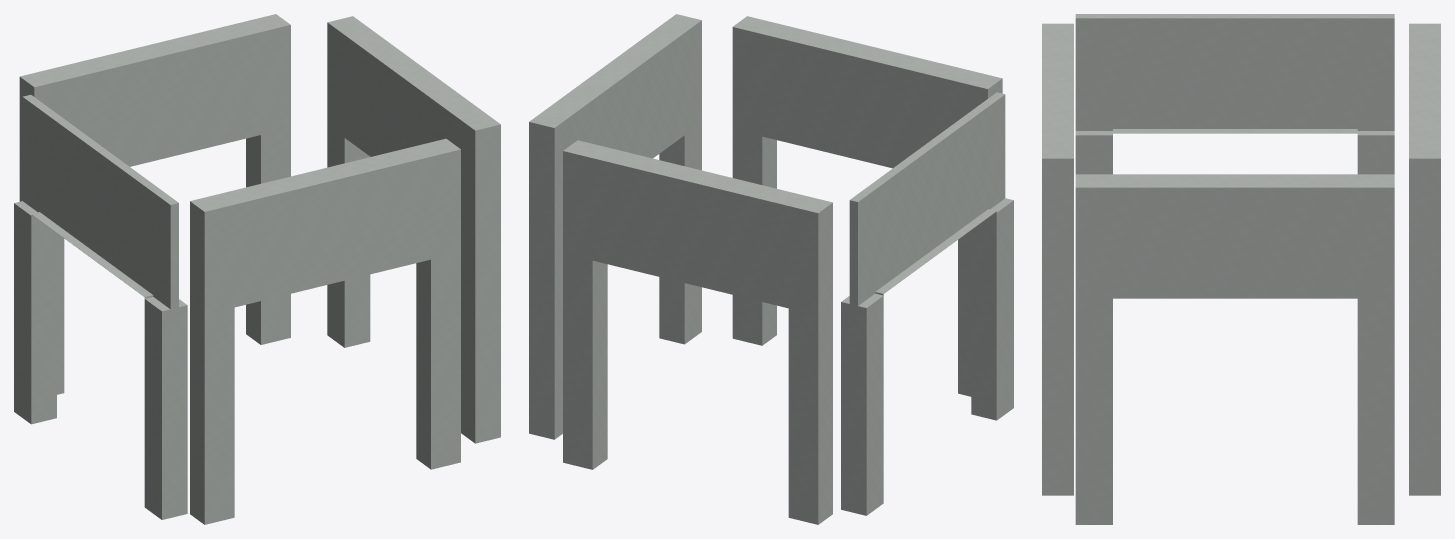
The model's file is AST-MED-G3-005.glb.
3 renders of one model, left to right at view 1: azimuth 30°, elevation 25°; view 2: azimuth 150°, elevation 25°; view 3: azimuth 270°, elevation 25°, orthographic. The views are drawn at different scales.
Parts seen in each view (by area): view 1: door_receiver_staff_white_paint_clean_south, door_receiver_staff_white_paint_sealed_load_west, door_receiver_staff_white_paint_clean_north, door_receiver_staff_white_paint_sealed_load_east; view 2: door_receiver_staff_white_paint_clean_north, door_receiver_staff_white_paint_sealed_load_west, door_receiver_staff_white_paint_clean_south, door_receiver_staff_white_paint_sealed_load_east; view 3: door_receiver_staff_white_paint_sealed_load_east, door_receiver_staff_white_paint_sealed_load_west, door_receiver_staff_white_paint_clean_north, door_receiver_staff_white_paint_clean_south.
Boxes of the visible parts, x1,y1,x2,y2 form: door_receiver_staff_white_paint_clean_south: [190, 138, 460, 524]; door_receiver_staff_white_paint_sealed_load_west: [14, 94, 187, 519]; door_receiver_staff_white_paint_clean_north: [19, 14, 290, 394]; door_receiver_staff_white_paint_sealed_load_east: [327, 16, 500, 443]; door_receiver_staff_white_paint_clean_north: [563, 140, 832, 524]; door_receiver_staff_white_paint_sealed_load_west: [841, 92, 1013, 515]; door_receiver_staff_white_paint_clean_south: [732, 16, 1002, 396]; door_receiver_staff_white_paint_sealed_load_east: [529, 14, 701, 439]; door_receiver_staff_white_paint_sealed_load_east: [1075, 174, 1394, 524]; door_receiver_staff_white_paint_sealed_load_west: [1075, 14, 1394, 174]; door_receiver_staff_white_paint_clean_north: [1409, 23, 1440, 495]; door_receiver_staff_white_paint_clean_south: [1042, 23, 1073, 495].
Size of the model in its own units: 4.76 by 4.2 by 4.5.
Materials: 1 (1 with a texture image).
